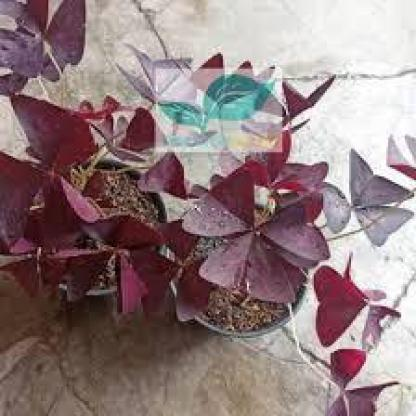Kupu-Kupu: (194, 185, 332, 304), (1, 103, 94, 237), (83, 213, 168, 311), (1, 1, 80, 87), (324, 350, 408, 415)
